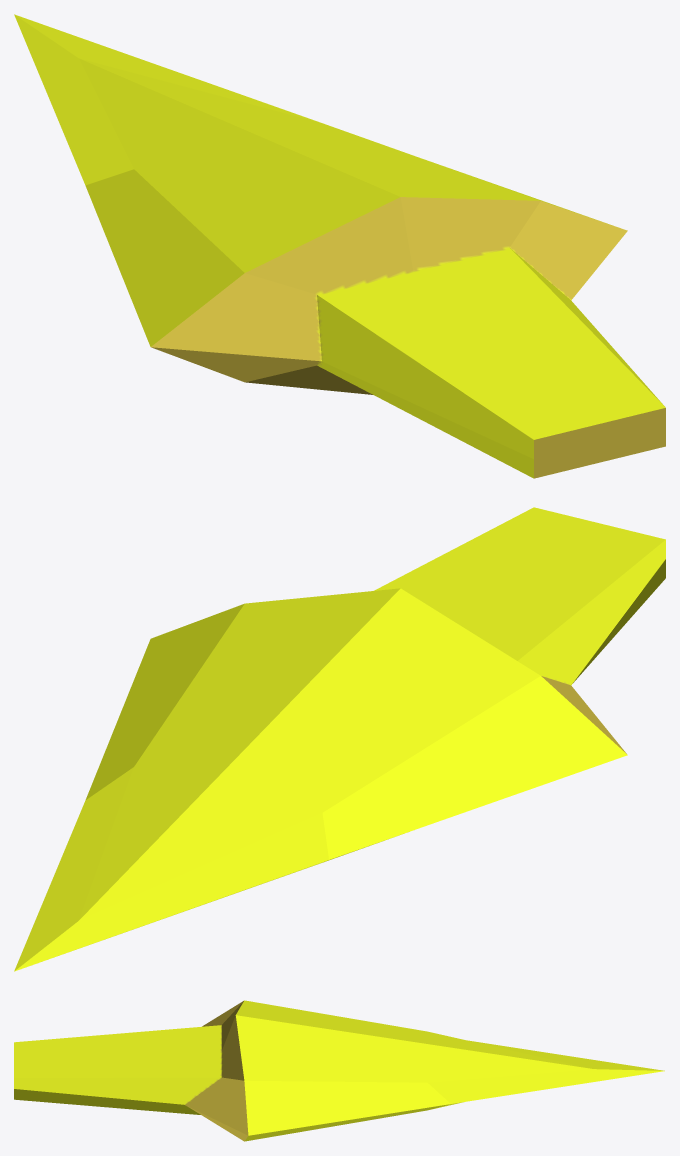
File: arrow.fbx
3 views of the same model, one above another, from view 1: azimuth 30°, elevation 25°; view 2: azimuth 150°, elevation 25°; view 3: azimuth 270°, elevation 25° (orthographic). The views are drawn at different scales.
Parts seen in each view (by area): view 1: Arrow; view 2: Arrow; view 3: Arrow.
Part boxes in pixels (x1,y1,x2,y2): Arrow: (14,14,665,478); Arrow: (14,507,665,971); Arrow: (14,1000,664,1141).
Size of the model in its own units: 1098 by 441 by 2335.
